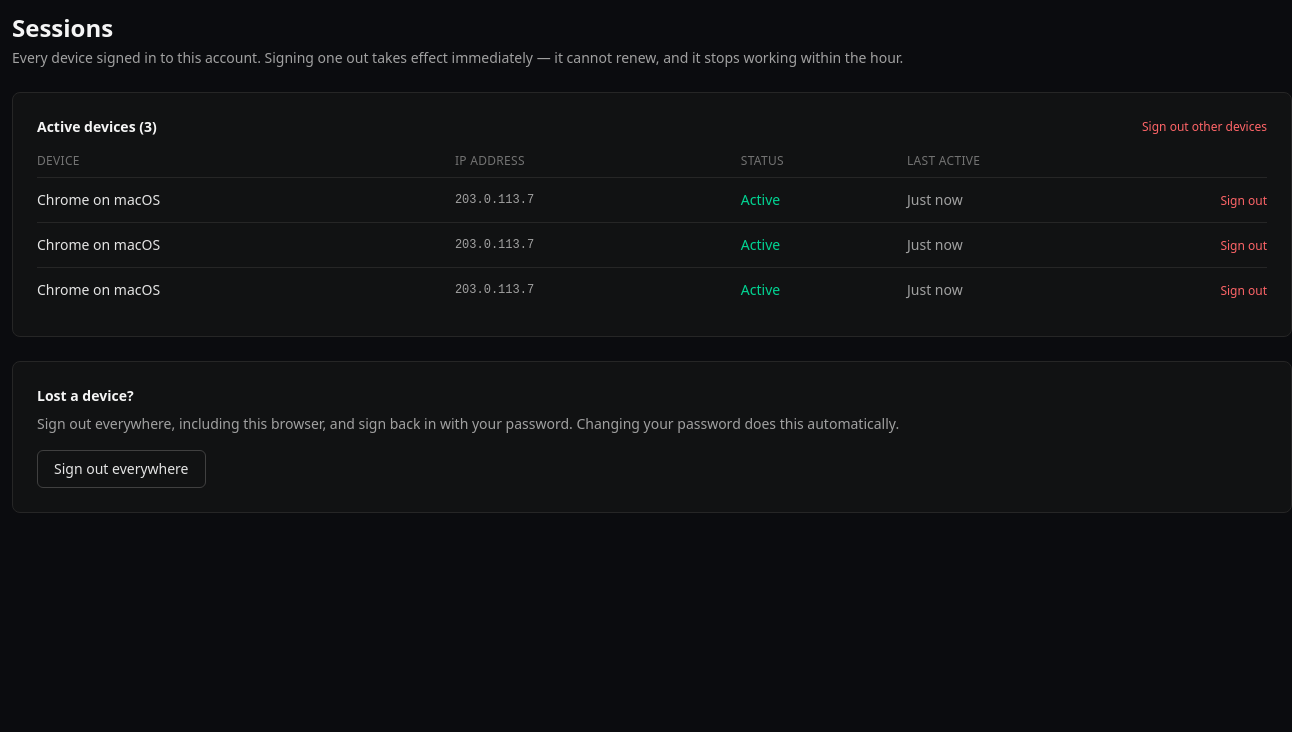
Scenario: SessionsPage › pluralises the count of devices signed out
The width and height of the screenshot is (1292, 732).
Click the button "Sign out other devices".
click(1204, 127)  # box x1=1142 y1=119 x2=1267 y2=135
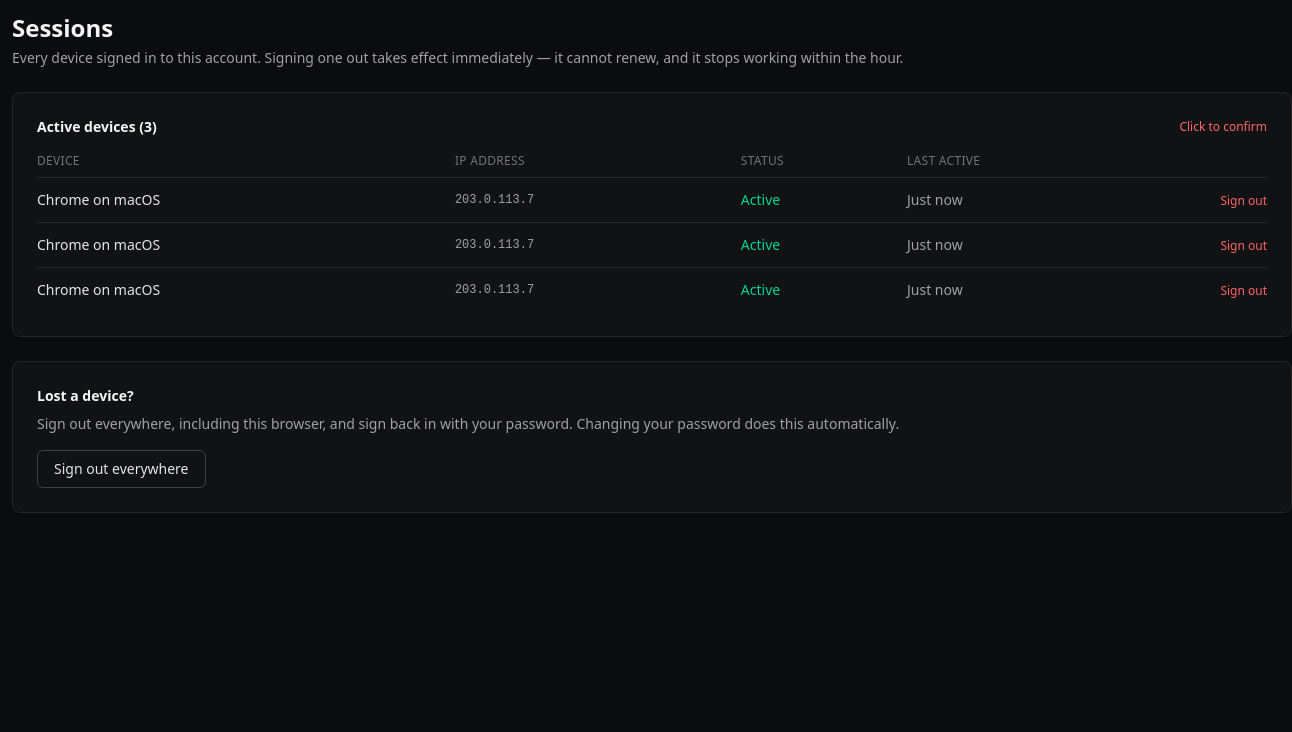
Click the button "Click to confirm".
click(1223, 127)  # box x1=1179 y1=119 x2=1267 y2=135
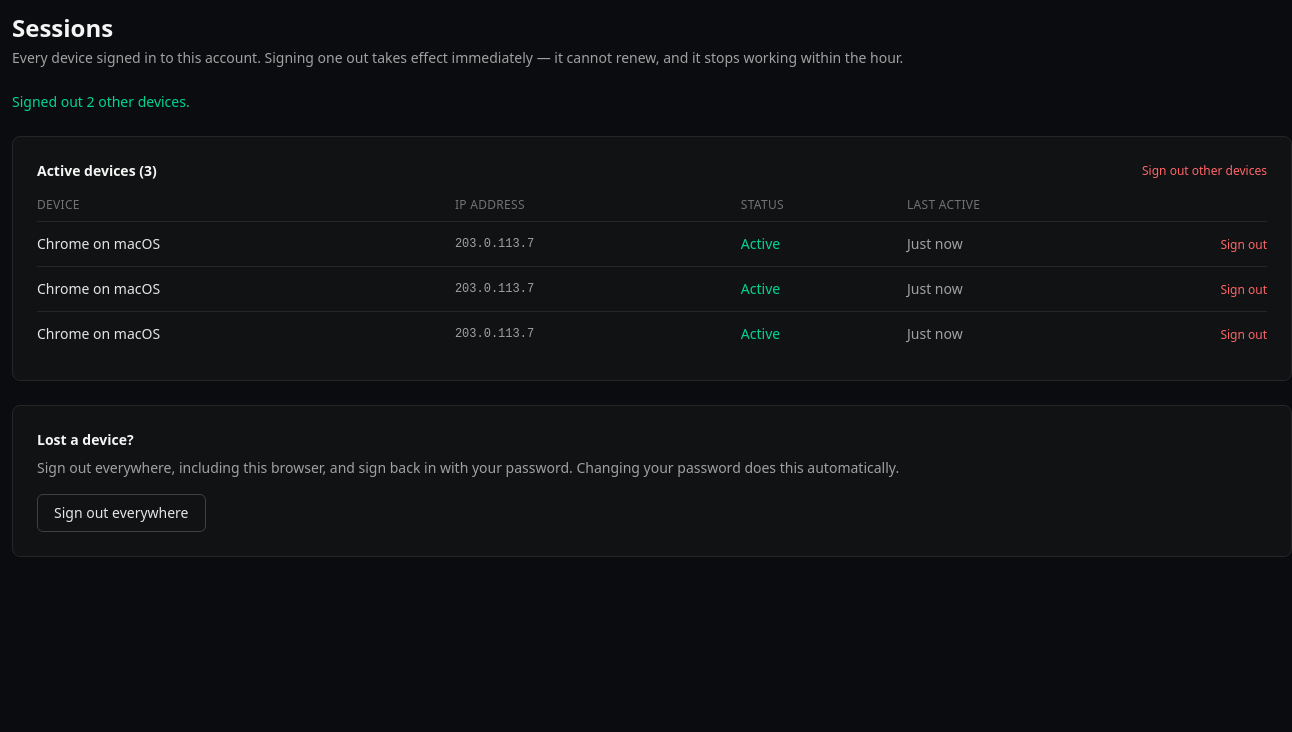
Expected: the message reads "Signed out 2 other devices.", x1=12 y1=92 x2=190 y2=111
